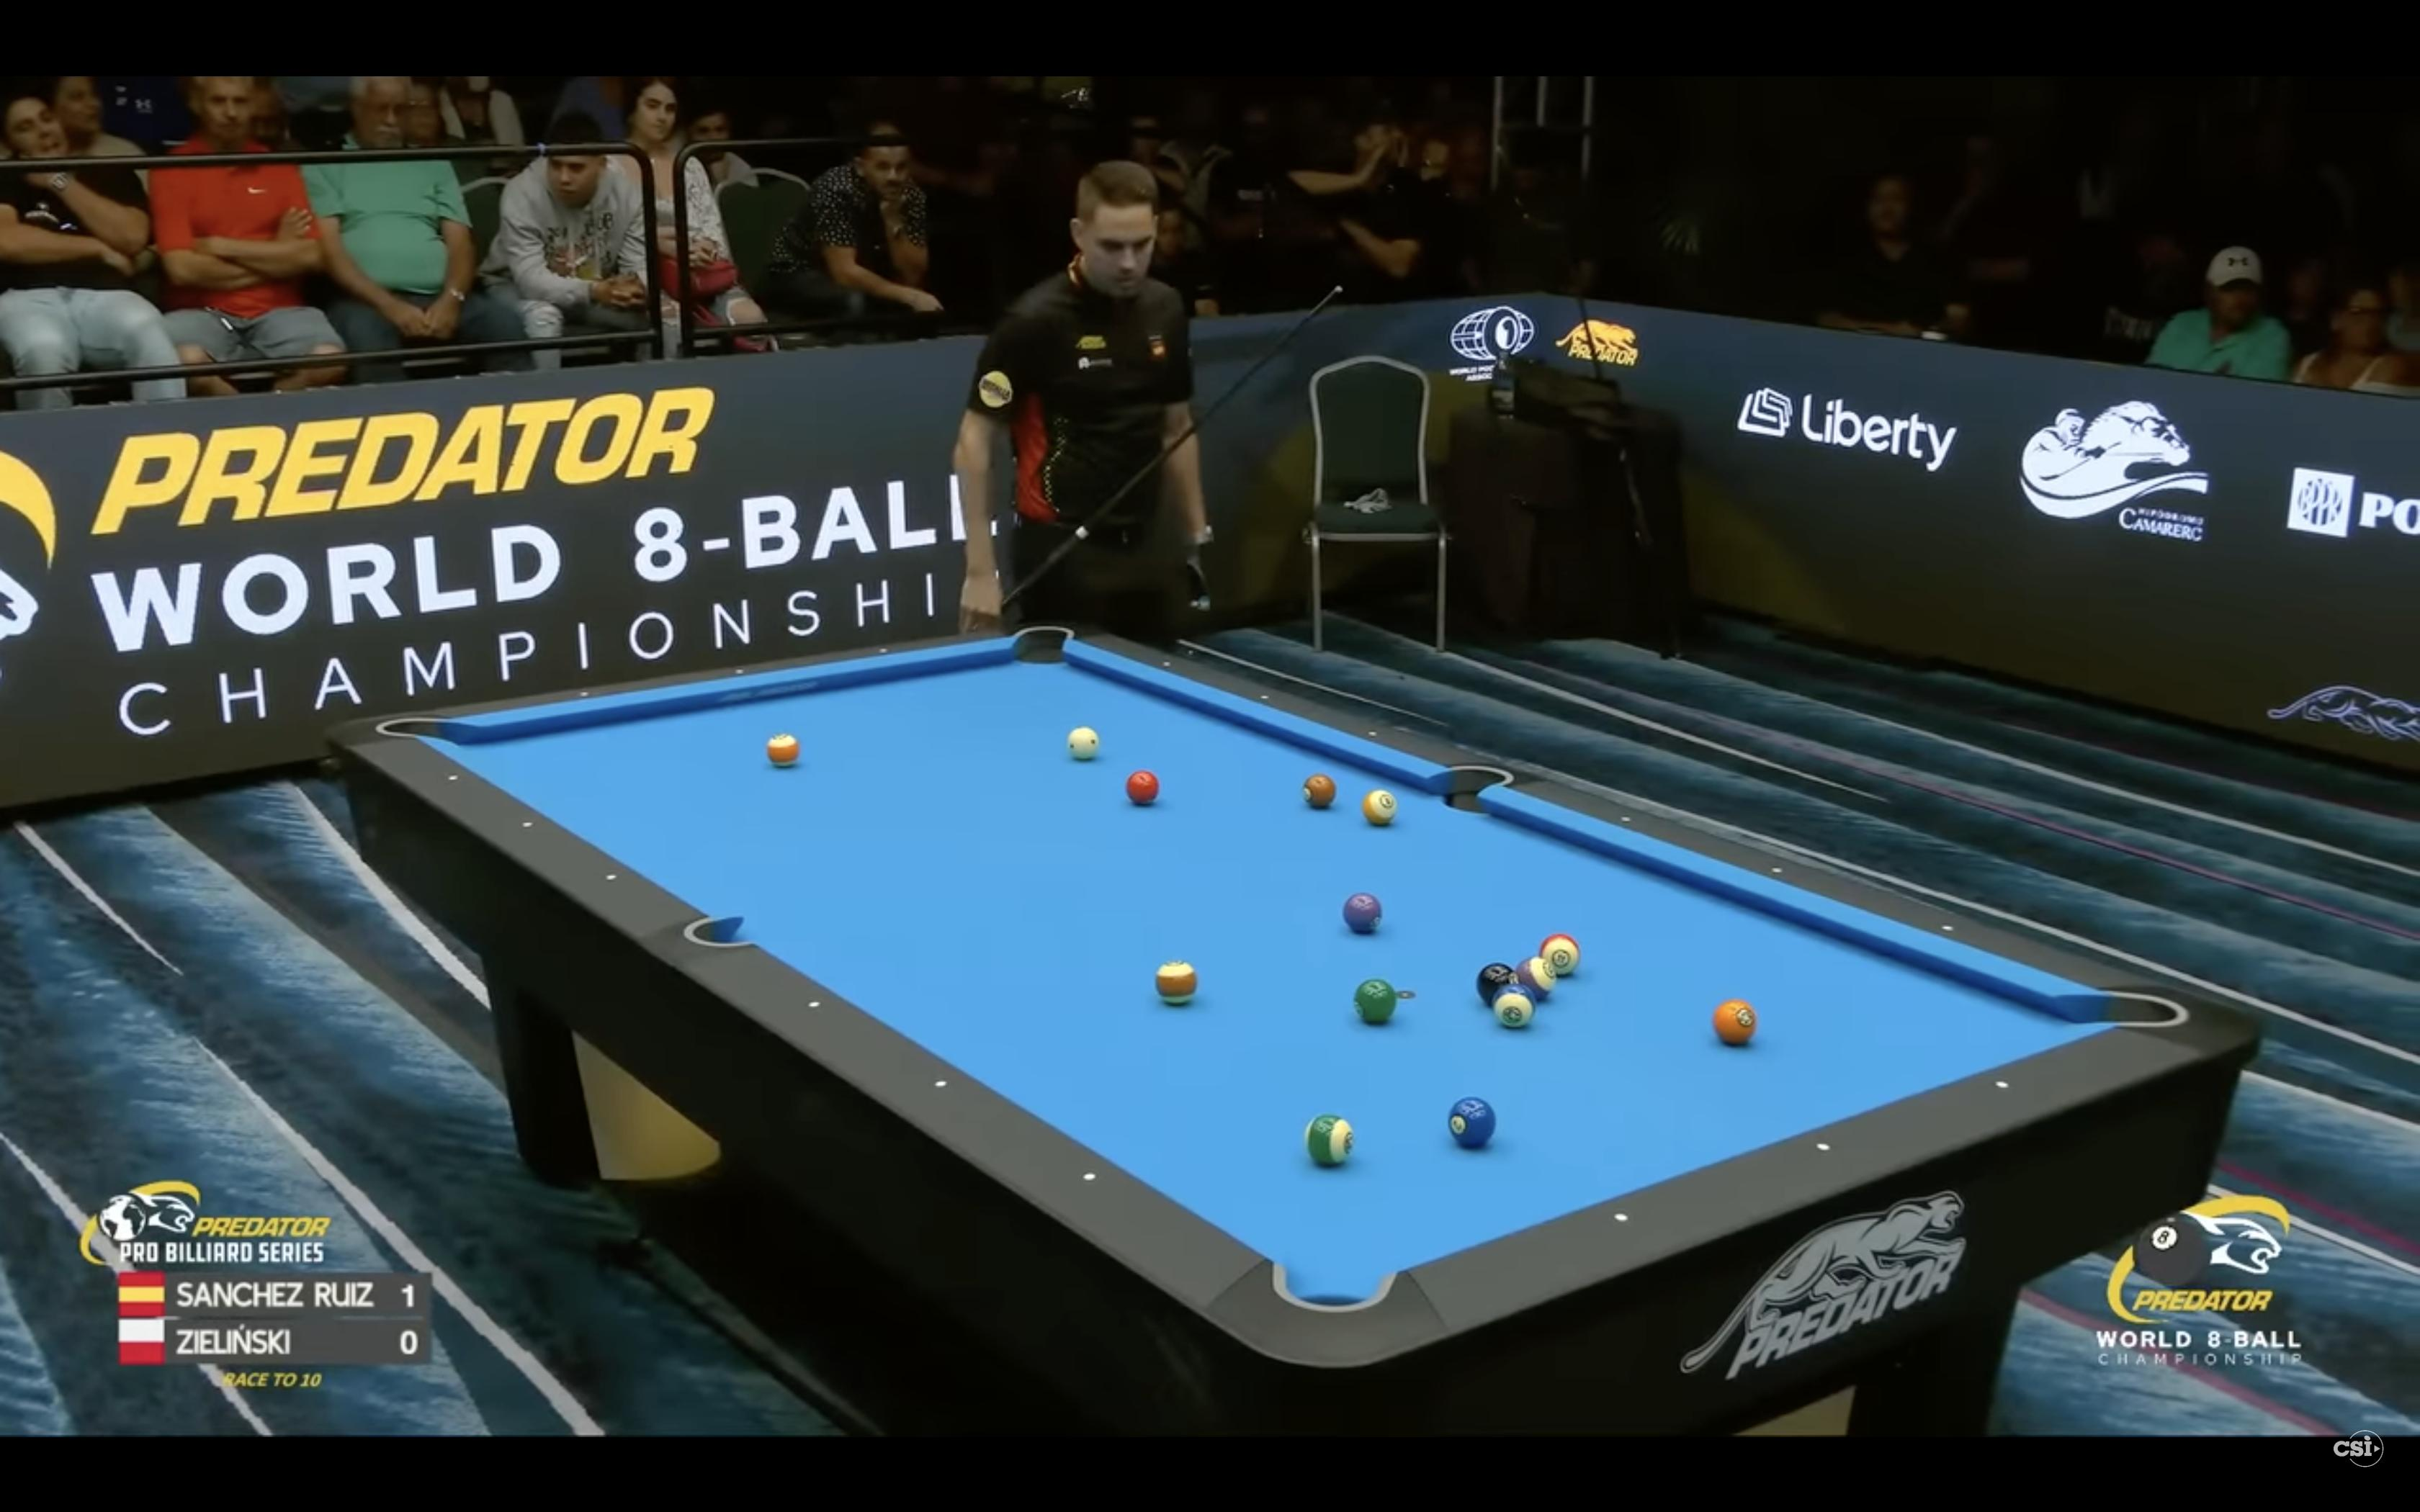Black: (1477, 962, 1519, 1005)
Cue: (1070, 726, 1098, 761)
Dot: (1613, 1212, 1629, 1223), (1082, 1172, 1096, 1183), (1815, 1143, 1831, 1151), (934, 1080, 948, 1089), (1995, 1082, 2009, 1089), (1941, 925, 1953, 932), (808, 1002, 821, 1009), (606, 874, 617, 881), (521, 822, 533, 827), (1368, 732, 1378, 737), (1620, 817, 1631, 822), (1772, 867, 1782, 873), (448, 775, 458, 780), (580, 692, 589, 697), (735, 669, 744, 674), (1162, 662, 1171, 667), (880, 648, 887, 653), (1261, 695, 1268, 699)
Solid: (1448, 1097, 1497, 1146), (1713, 1000, 1756, 1045), (1355, 979, 1396, 1023), (1345, 894, 1383, 934), (1303, 773, 1336, 807), (1127, 772, 1160, 805)
Striped: (1305, 1113, 1354, 1165), (1493, 984, 1537, 1028), (1155, 960, 1197, 1005), (1538, 934, 1580, 977), (1516, 958, 1556, 1000), (1364, 791, 1397, 824), (767, 733, 798, 766)
